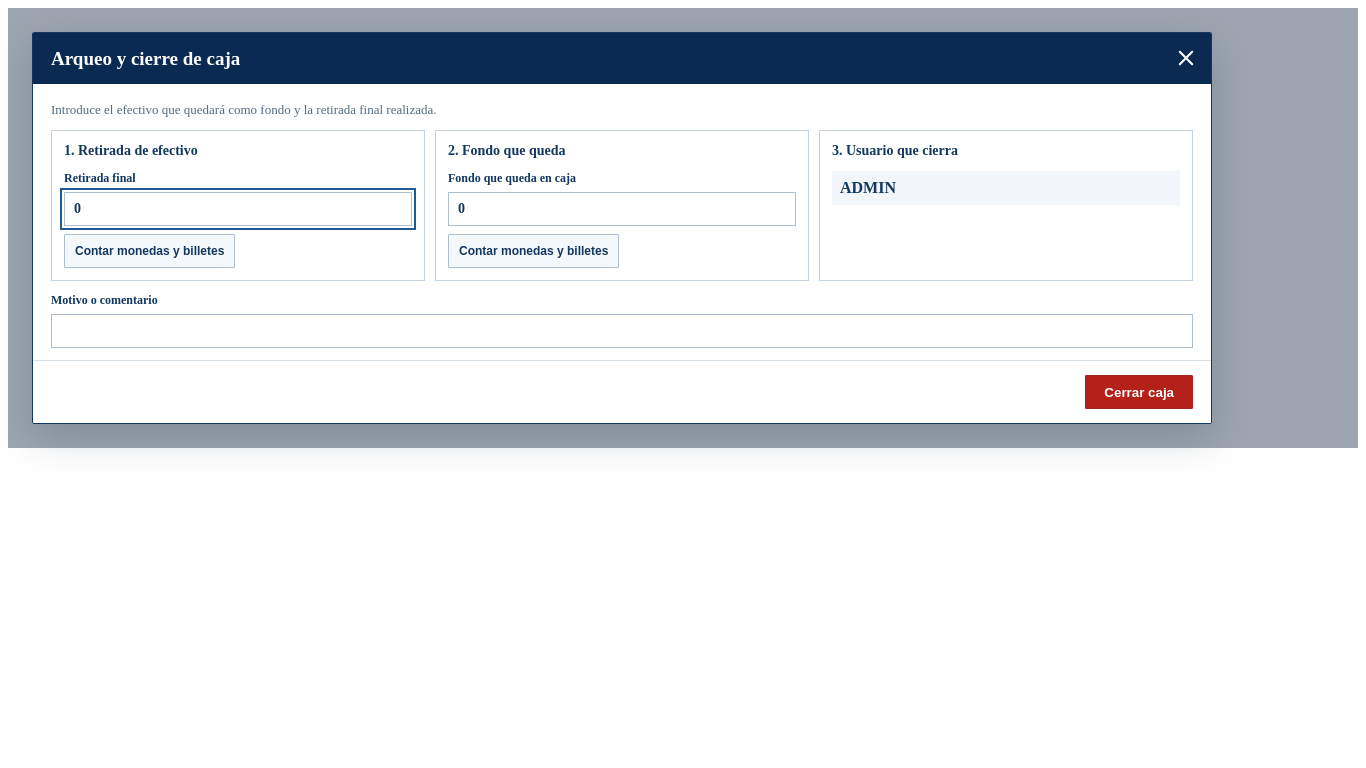
Scenario: cash counts connected to opening and closing › keeps denominations in the recovery envelope after an uncertain close
Click the button "Contar monedas y billetes" below "1. Retirada de efectivo": (150, 251) [64,234,235,268]
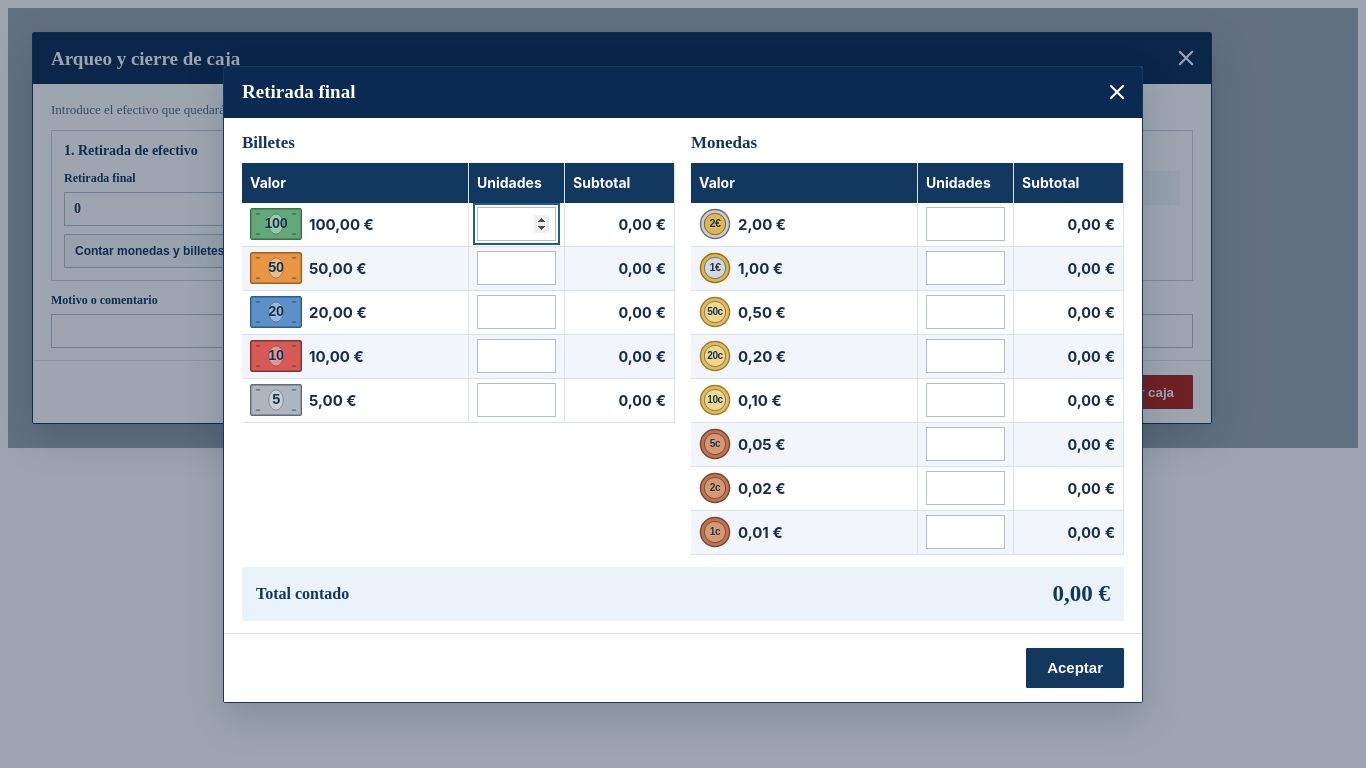
In the number field named "Unidades 20": (516, 312) [477,295,556,329], type "2"
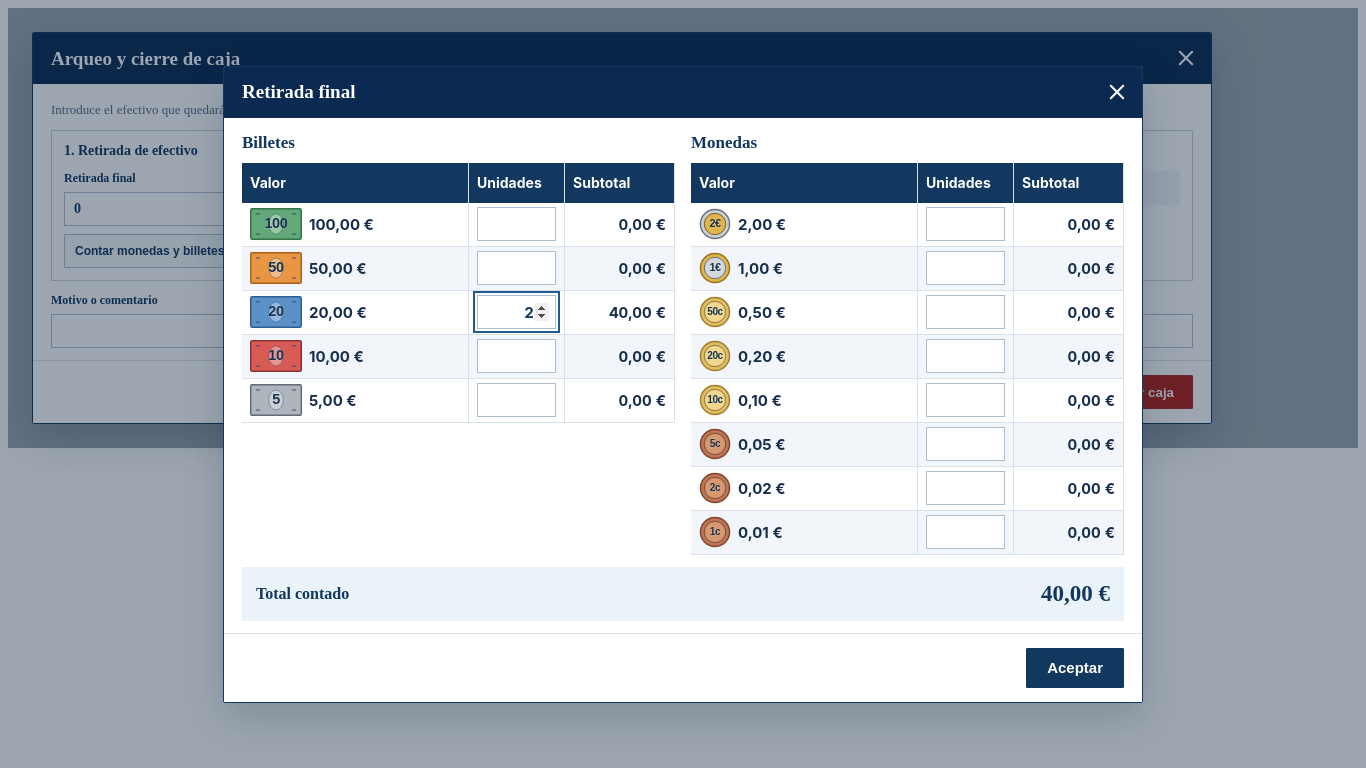
Click the button "Aceptar": (1075, 668) [1026,648,1124,688]
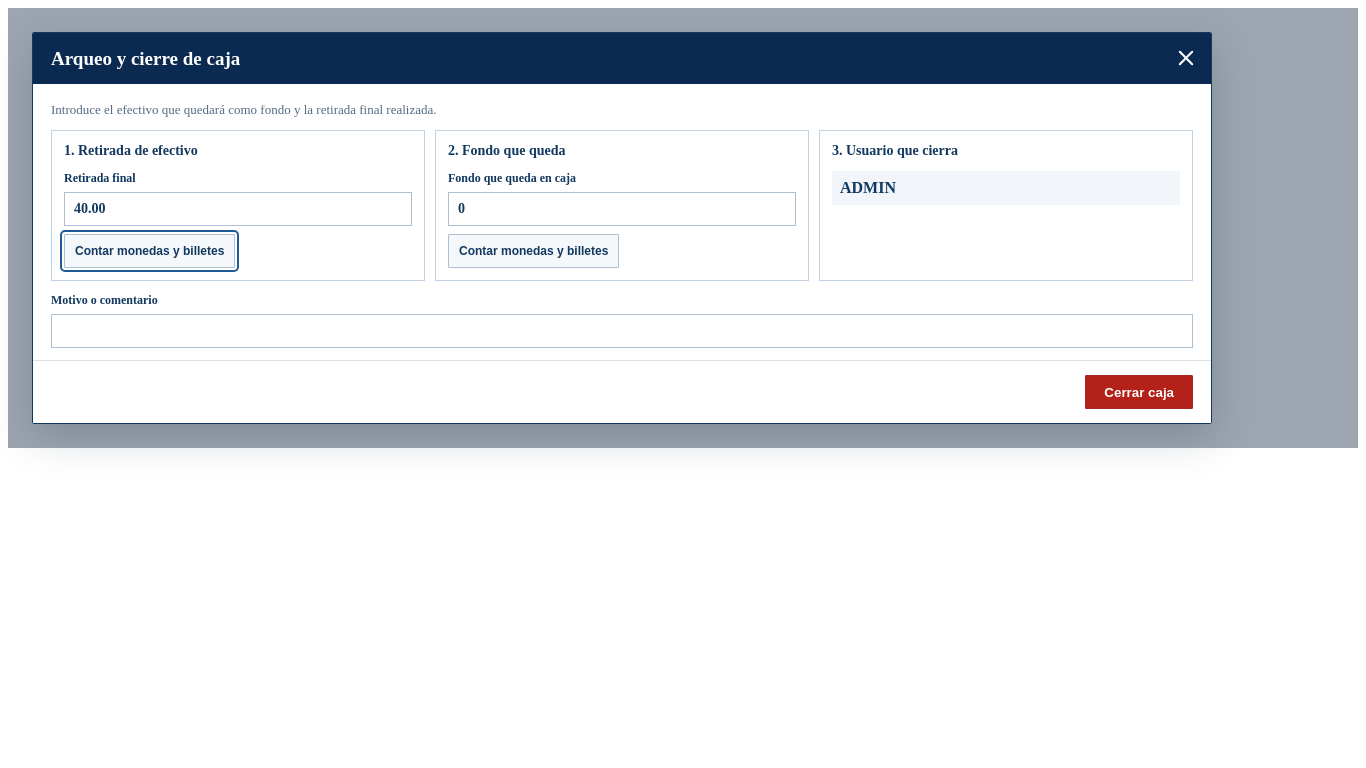
Click the button "Cerrar caja": (1139, 392) [1085,375,1193,409]
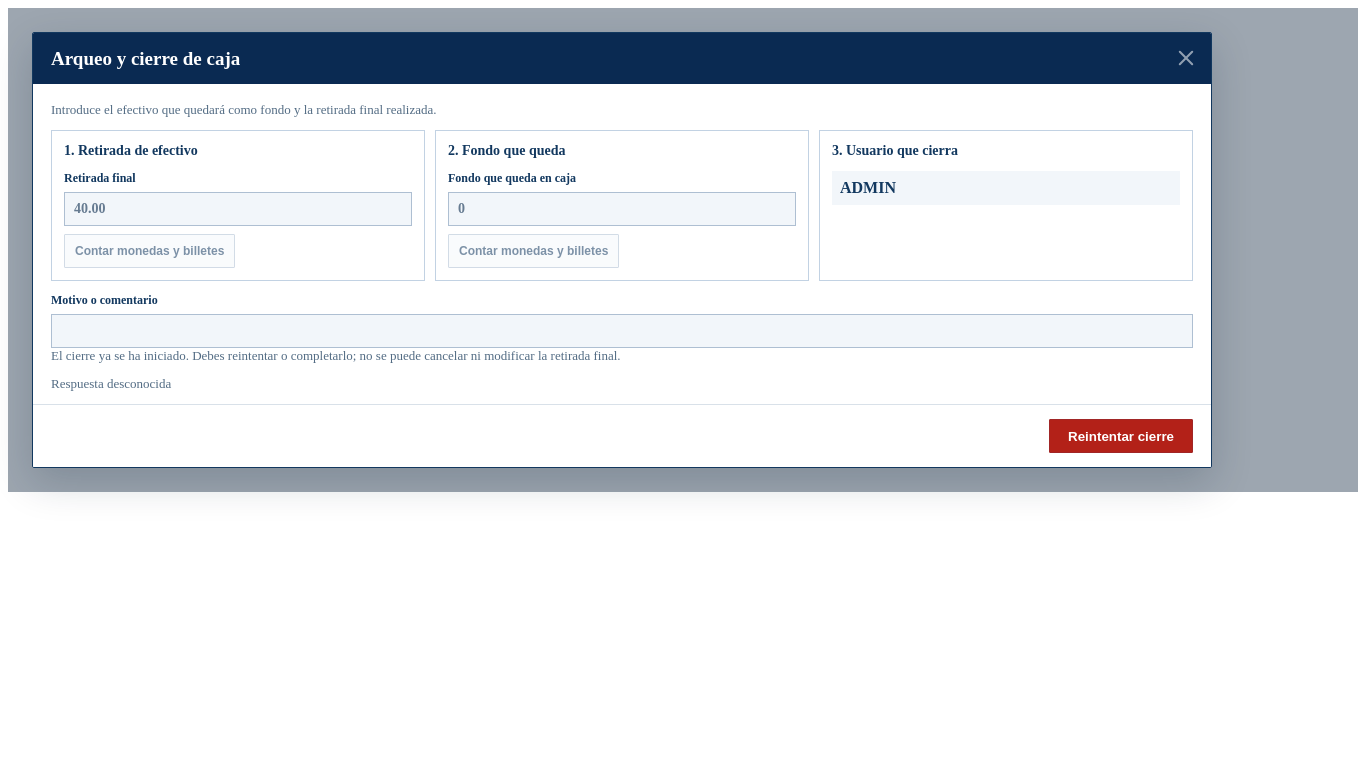
Expected: the message "Respuesta desconocida" is shown, [51,376,171,391]
Expected: the field labelled "Retirada final" is disabled, [64,192,412,226]
Expected: the button "Contar monedas y billetes" below "1. Retirada de efectivo" is disabled, [64,234,235,268]
